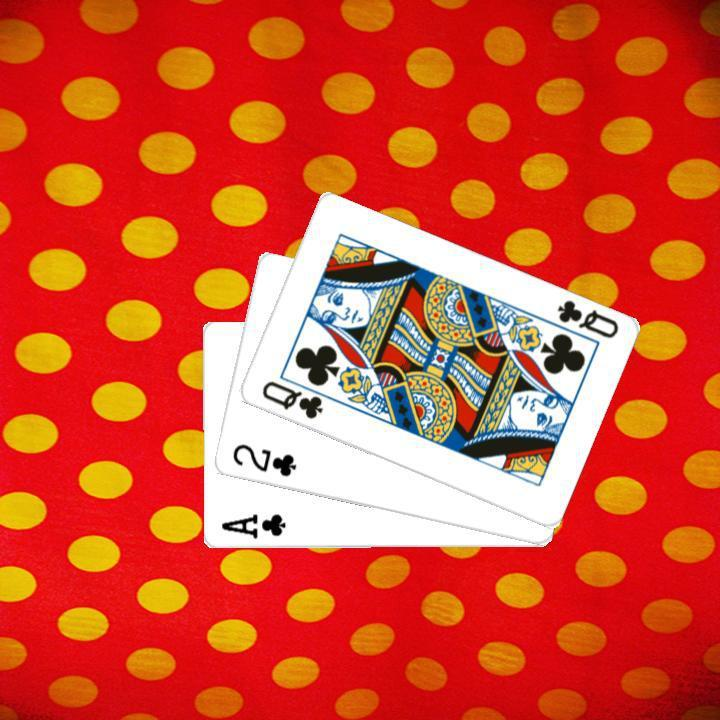2: (227, 440, 298, 479)
A: (217, 510, 287, 541)
Q: (257, 376, 325, 422), (552, 296, 621, 341)
